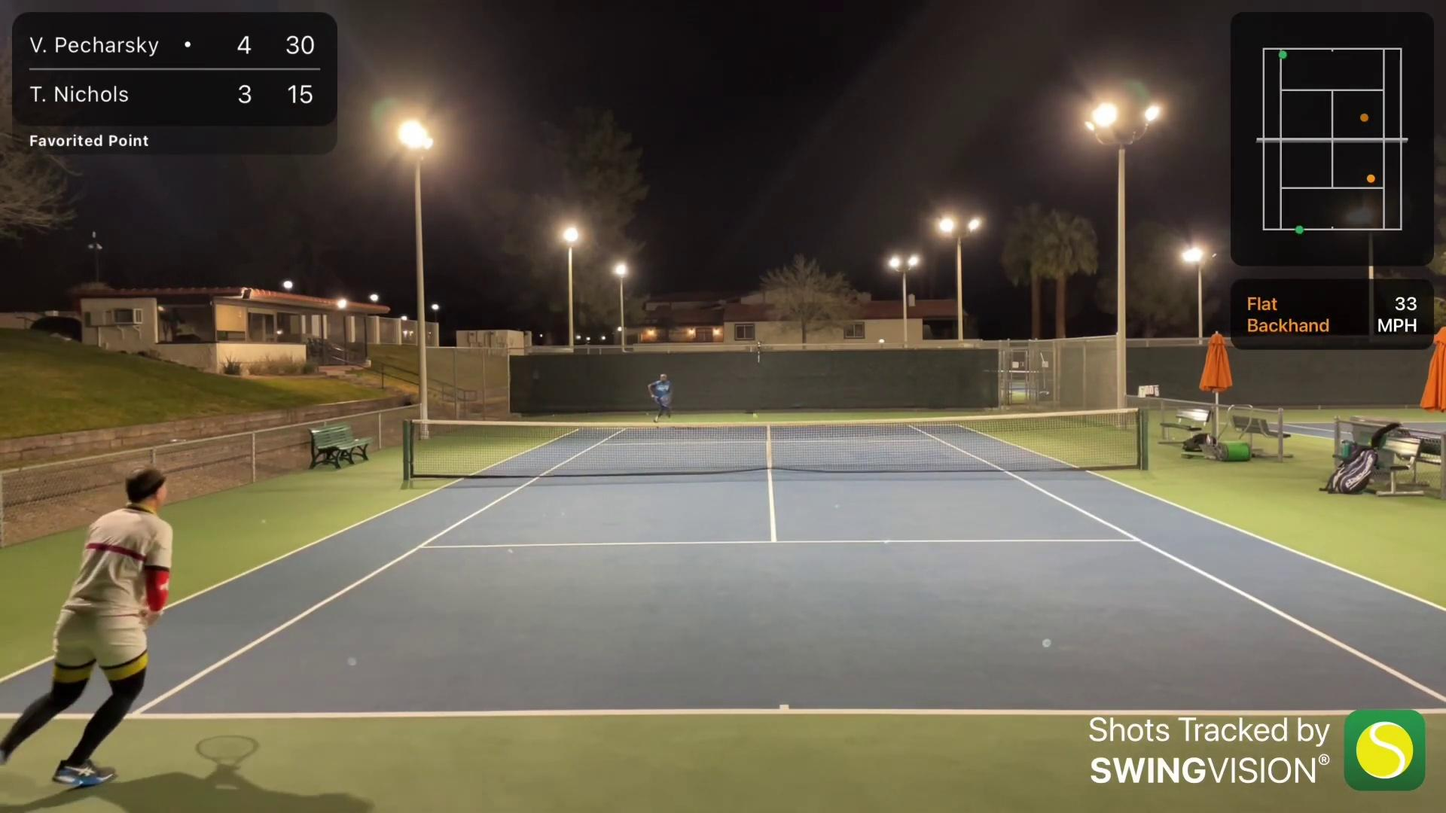ball: (748, 408, 763, 425)
